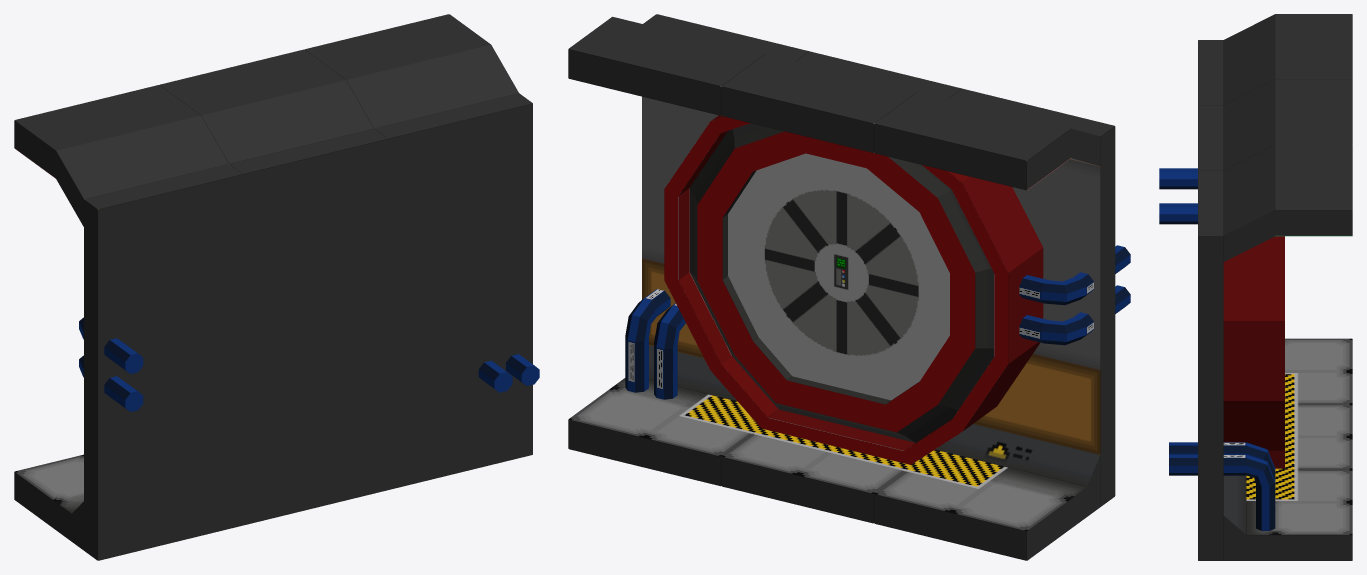
The model's file is ShipWallAirlock Orange.obj.
3 views of the same model, side by side, from view 1: azimuth 30°, elevation 25°; view 2: azimuth 150°, elevation 25°; view 3: azimuth 270°, elevation 25° (orthographic). The views are drawn at different scales.
Visible parts, largest first — view 1: ShipWall, Pipe; view 2: ShipWall, Airlock, Pipe; view 3: ShipWall, Airlock, Pipe.
Part boxes in pixels (x1=…): ShipWall: x1=14, y1=14, x2=532, y2=560; Pipe: x1=79, y1=317, x2=539, y2=411; ShipWall: x1=568, y1=14, x2=1115, y2=560; Airlock: x1=664, y1=115, x2=1043, y2=464; Pipe: x1=625, y1=245, x2=1130, y2=399; ShipWall: x1=1198, y1=14, x2=1352, y2=560; Airlock: x1=1223, y1=170, x2=1284, y2=468; Pipe: x1=1159, y1=168, x2=1275, y2=530.
Size of the model in its own units: 3 by 2.5 by 1.25.
Materials: 3 (3 with a texture image).
